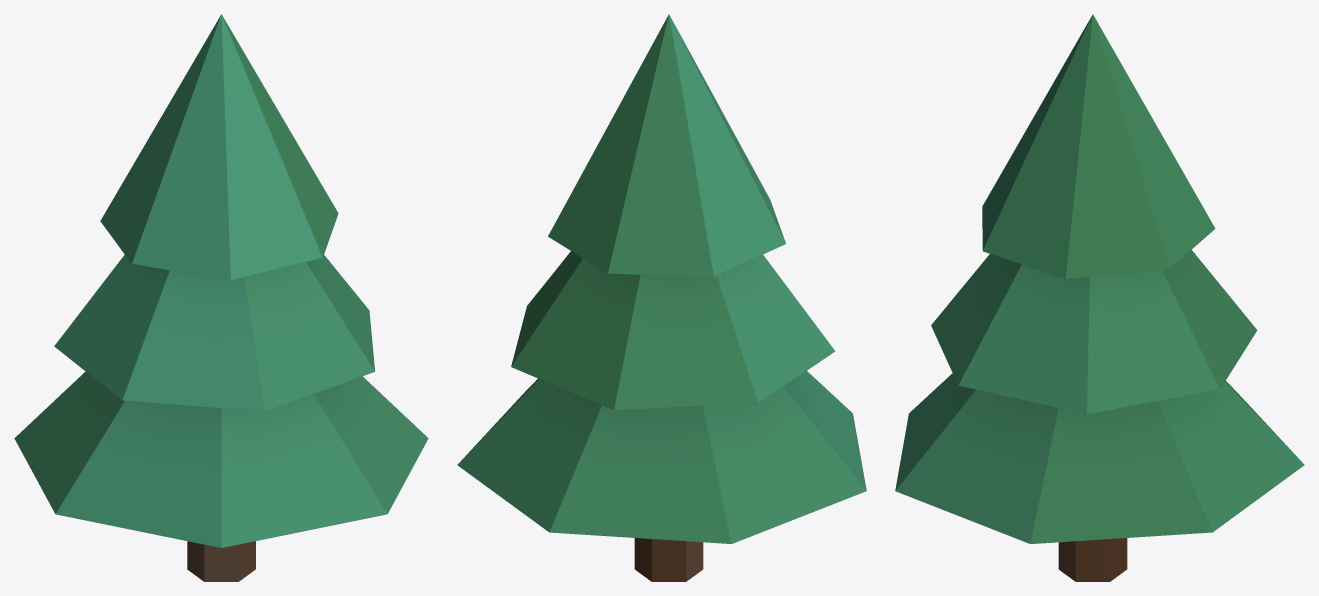
Rendered from scenery_pine_2.fbx.
3 renders of one model, left to right at view 1: azimuth 30°, elevation 25°; view 2: azimuth 150°, elevation 25°; view 3: azimuth 270°, elevation 25°, orthographic.
Parts seen in each view (by area): view 1: scenery_pine_2_body; view 2: scenery_pine_2_body; view 3: scenery_pine_2_body.
Boxes of the visible parts, x1,y1,x2,y2 form: scenery_pine_2_body: (14,14,428,581); scenery_pine_2_body: (457,14,866,581); scenery_pine_2_body: (895,14,1304,581).
Size of the model in its own units: 784 by 1163 by 777.
1 material, 1 textured.
